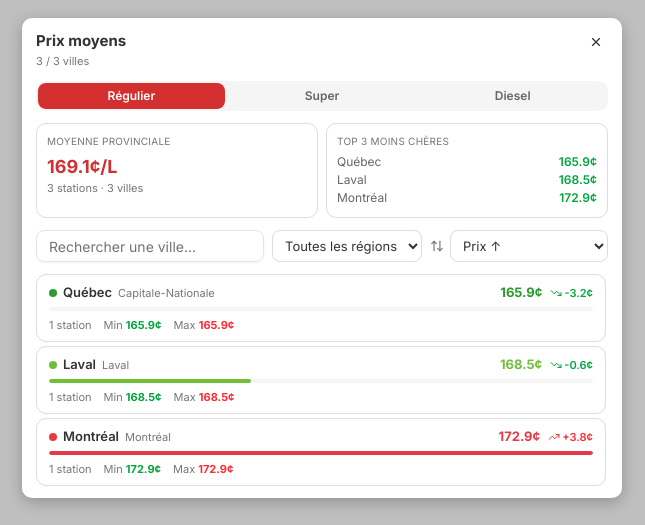
Test case: CityPricePanel › filtre les villes par recherche
The width and height of the screenshot is (645, 525).
Type "Québec" into the field with placeholder "Rechercher une ville..." at (150, 246), box [36,230,264,262]
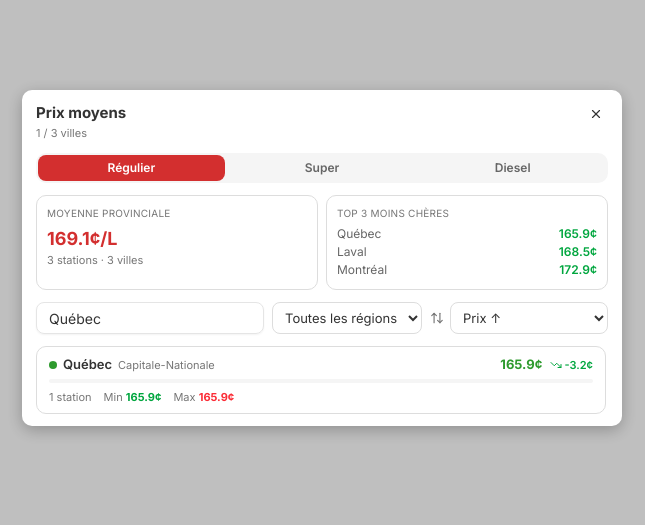
Now the text "1 / 3 villes" is shown, box [36,126,87,140]
